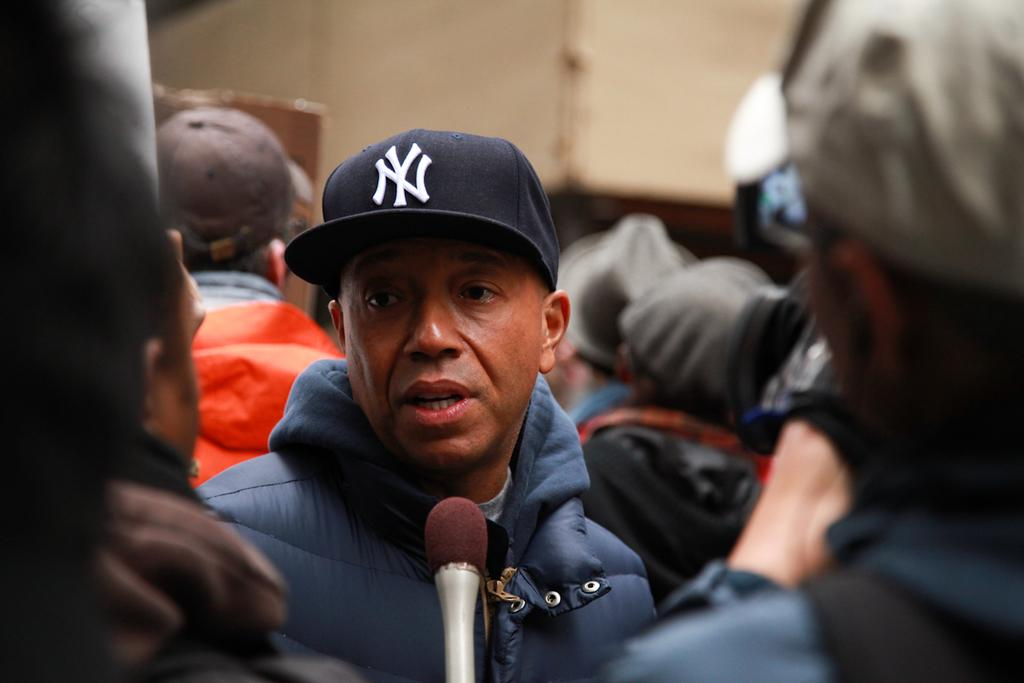Hat: (284, 122, 562, 292), (156, 106, 315, 257)
